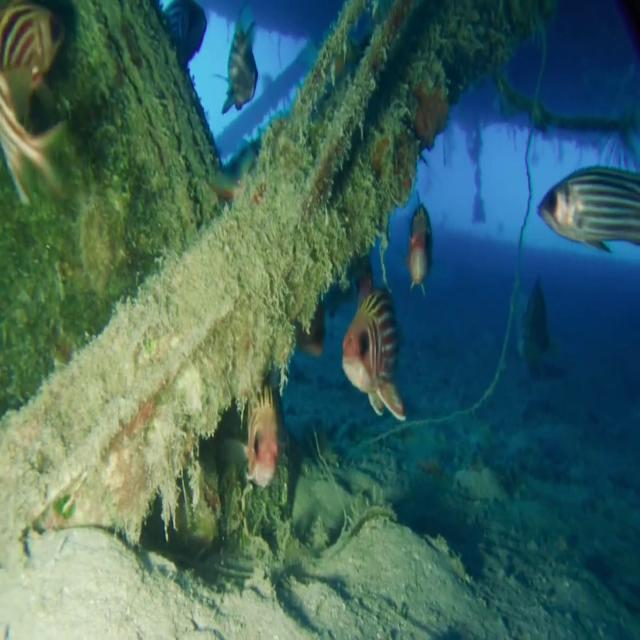Asker Baligi: (532, 152, 640, 268), (341, 283, 407, 423)
